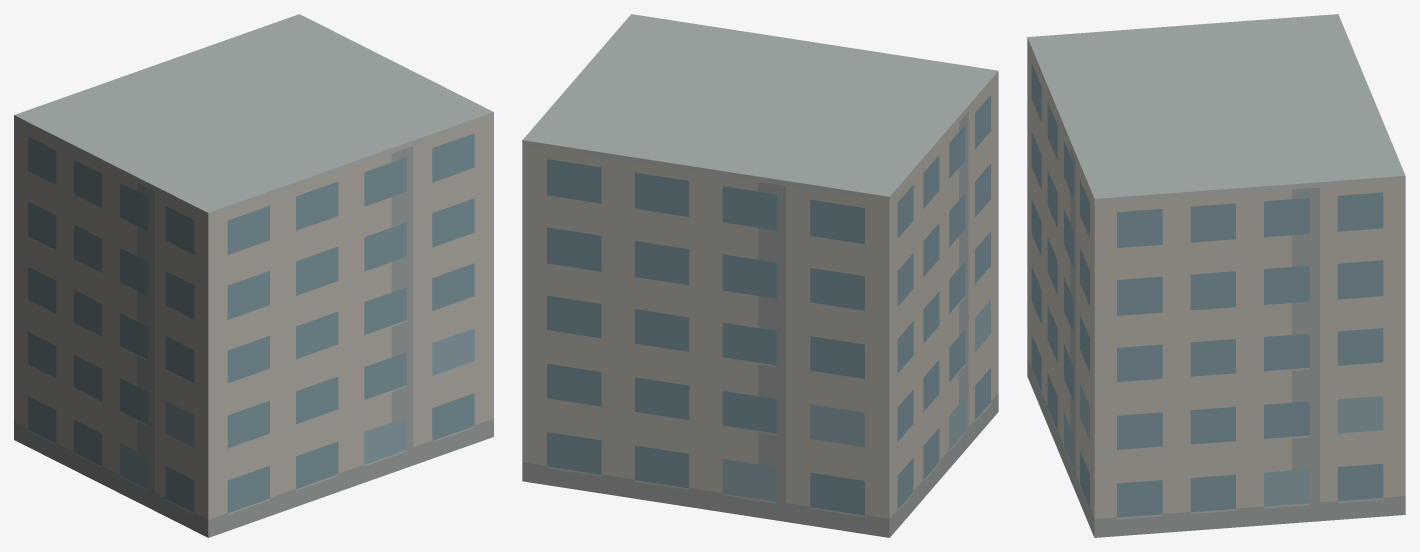
The model's file is residential-adbca675-9e9f-49dc-840c-ed43930ac301.glb.
3 renders of one model, left to right at view 1: azimuth 30°, elevation 25°; view 2: azimuth 150°, elevation 25°; view 3: azimuth 270°, elevation 25°, orthographic. The views are drawn at different scales.
Parts seen in each view (by area): view 1: residential-adbca675-9e9f-49dc-840c-ed43930ac301.tmp; view 2: residential-adbca675-9e9f-49dc-840c-ed43930ac301.tmp; view 3: residential-adbca675-9e9f-49dc-840c-ed43930ac301.tmp.
Boxes of the visible parts, x1,y1,x2,y2 form: residential-adbca675-9e9f-49dc-840c-ed43930ac301.tmp: [14, 14, 493, 537]; residential-adbca675-9e9f-49dc-840c-ed43930ac301.tmp: [522, 14, 998, 537]; residential-adbca675-9e9f-49dc-840c-ed43930ac301.tmp: [1027, 14, 1405, 537].
Size of the model in its own units: 17.84 by 15.25 by 15.43.
